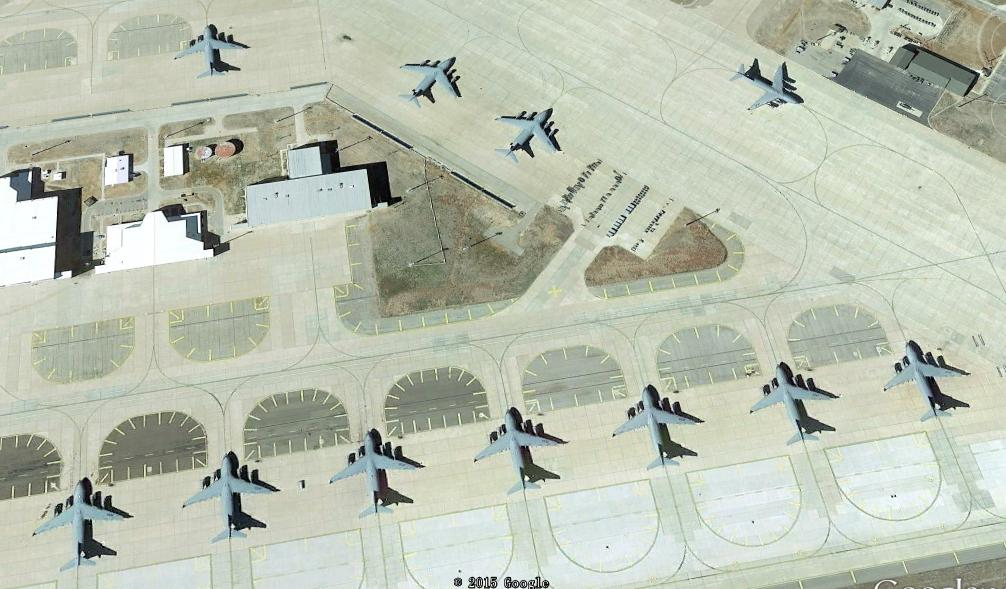C-17: (31, 471, 130, 573), (605, 384, 702, 475), (470, 405, 564, 497), (185, 448, 277, 540), (326, 432, 421, 520), (751, 358, 840, 445), (884, 339, 968, 423), (727, 57, 806, 117), (172, 21, 252, 80), (496, 104, 564, 167), (398, 51, 466, 109)
